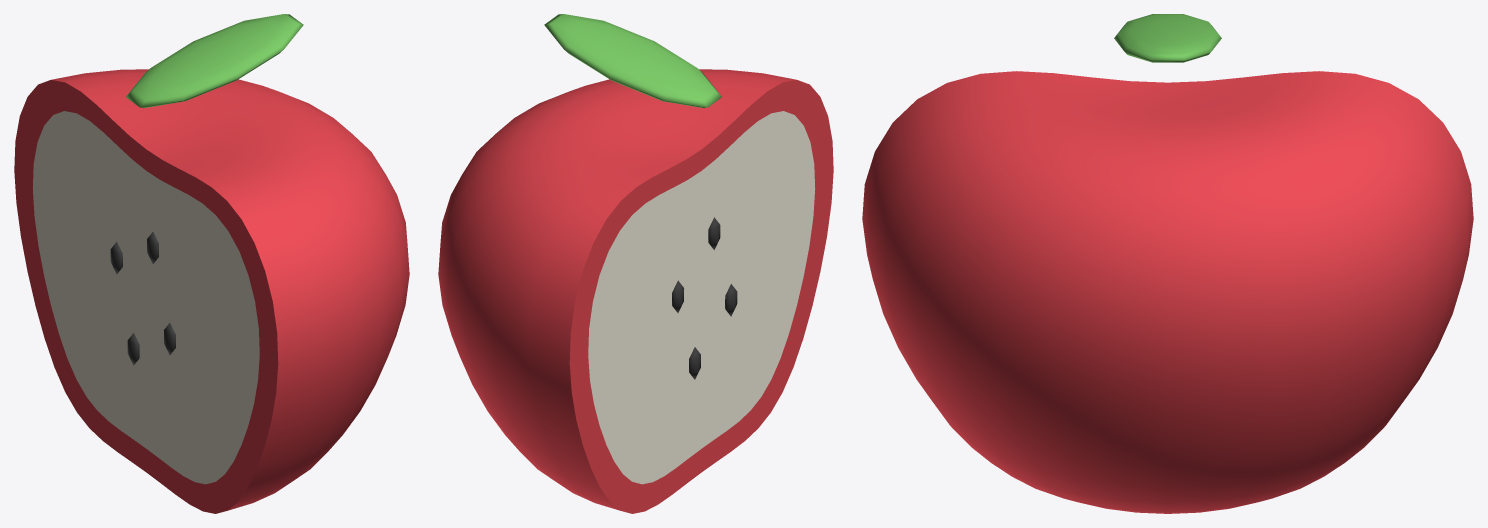
File: Apple_Half_B.fbx
3 renders of one model, left to right at view 1: azimuth 30°, elevation 25°; view 2: azimuth 150°, elevation 25°; view 3: azimuth 270°, elevation 25°, orthographic. The views are drawn at different scales.
Parts seen in each view (by area): view 1: Apple_Half_B; view 2: Apple_Half_B; view 3: Apple_Half_B.
Part boxes in pixels (x1,y1,x2,y2): Apple_Half_B: (14, 14, 409, 513); Apple_Half_B: (438, 14, 833, 513); Apple_Half_B: (862, 14, 1473, 513).
Size of the model in its own units: 0.4946 by 0.8188 by 0.9344.
